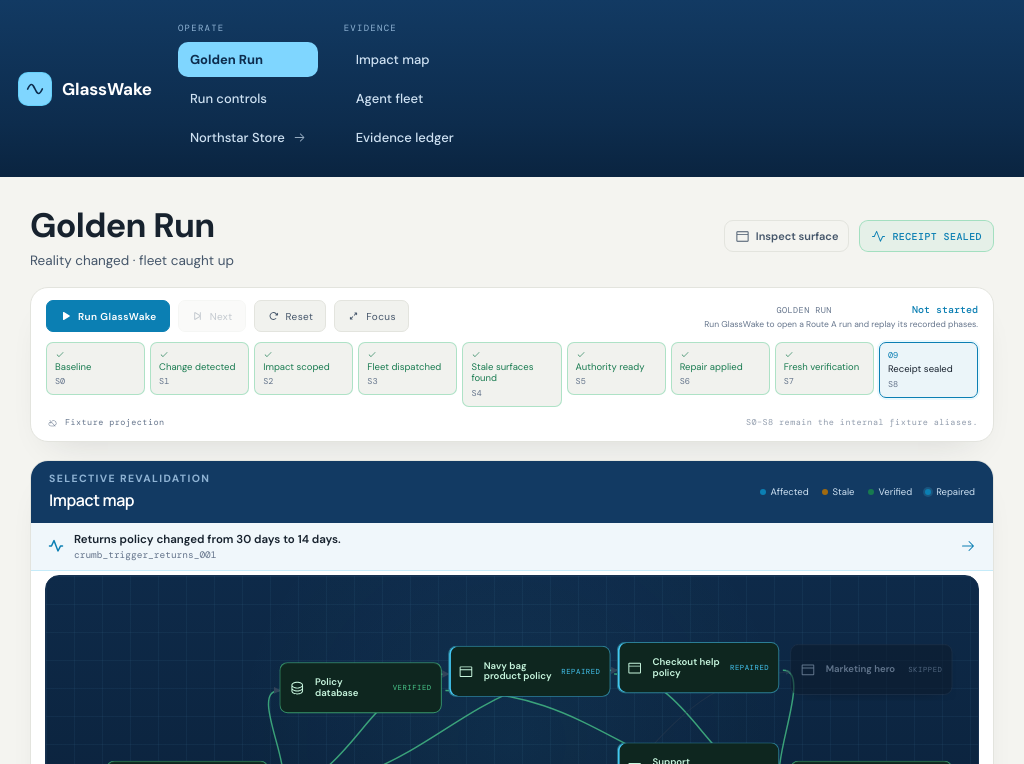
Test: ControlPlane critical projections › focus is the master collapse for both rails and back
Click the button "Focus" at (372, 316), box top-left (334, 300), bottom-right (409, 332)
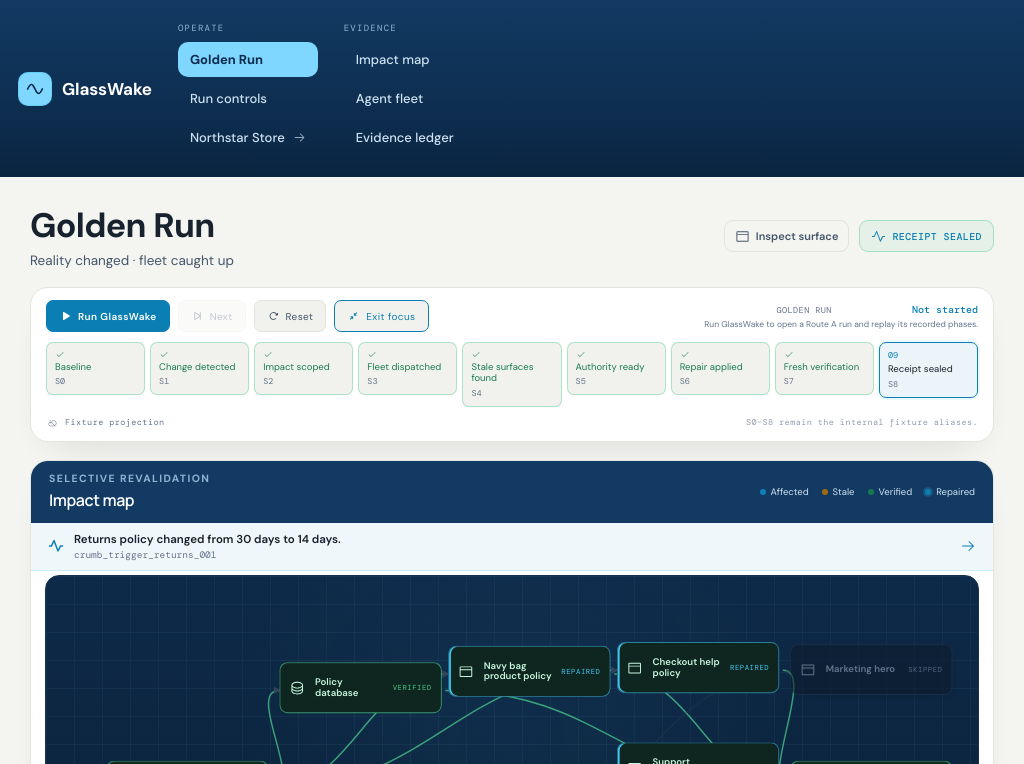
Expected: the heading "Impact map" is shown, top-left (49, 489), bottom-right (134, 511)
Click the button "Exit focus" at (381, 316), box top-left (334, 300), bottom-right (428, 332)
(page scrolled)
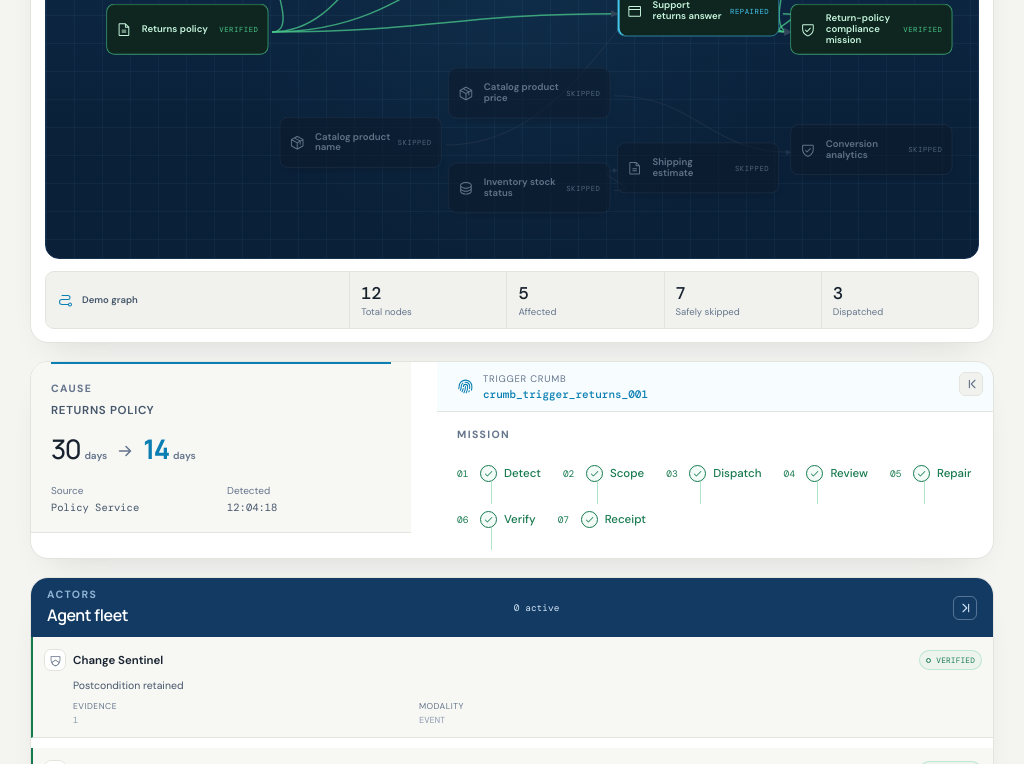
Expected: the button named "Collapse mission rail" is shown, top-left (959, 372), bottom-right (983, 396)
